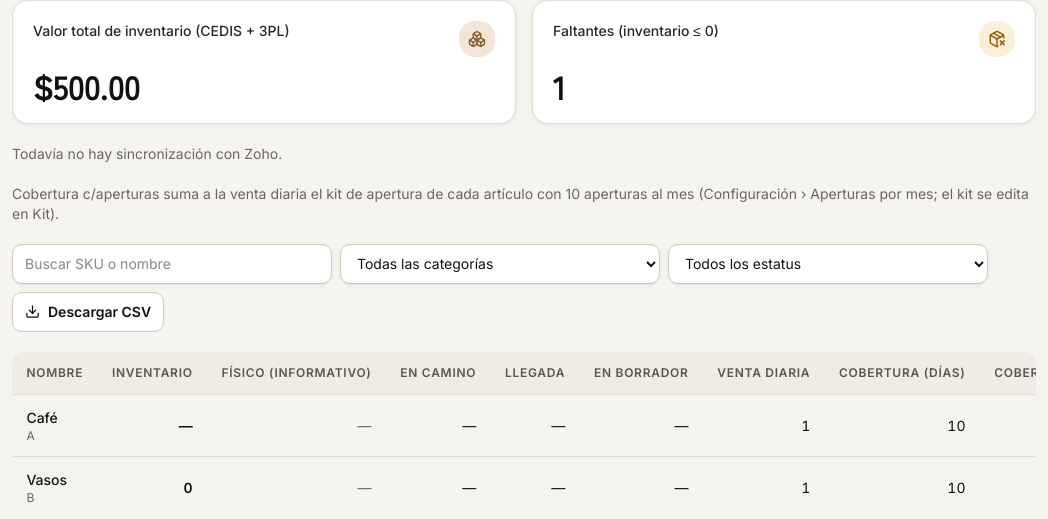
Inventario › filtra por búsqueda y por "solo faltantes" (inventario contable ≤ 0, no el disponible)
This screenshot has width=1048, height=519.
Expected: the text "Café" is shown, 26,409 -> 58,426
Select "Solo faltantes" in the dropdown named "Estatus" at (828, 264), box 668,244 -> 988,284
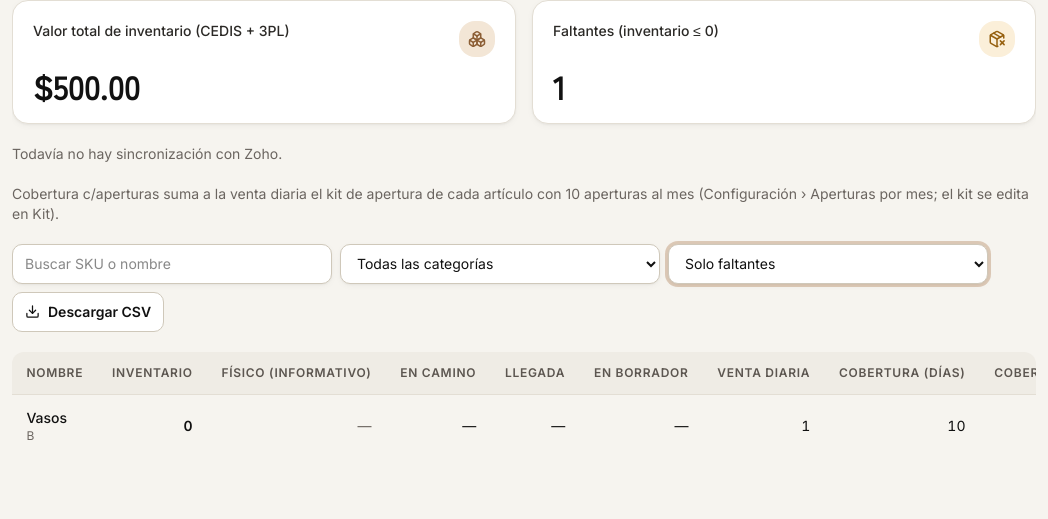
Expected: the text "Vasos" is shown, 26,409 -> 67,426
Expected: the text "Café" is gone
